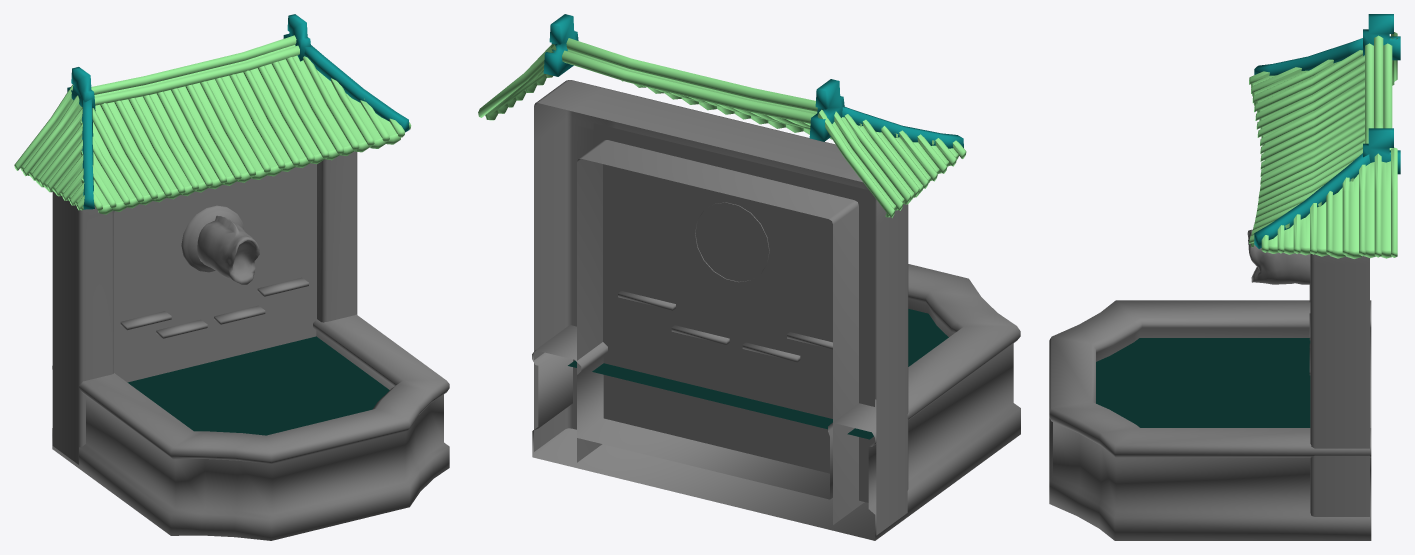
Rendered from 벽분수대.fbx.
3 renders of one model, left to right at view 1: azimuth 30°, elevation 25°; view 2: azimuth 150°, elevation 25°; view 3: azimuth 270°, elevation 25°, orthographic. The views are drawn at different scales.
Parts seen in each view (by area): view 1: 1_low008; view 2: 1_low008; view 3: 1_low008.
Part boxes in pixels (x1,y1,x2,y2): 1_low008: [14, 14, 449, 540]; 1_low008: [478, 14, 1020, 540]; 1_low008: [1049, 14, 1400, 540].
Size of the model in its own units: 294 by 305 by 246.
